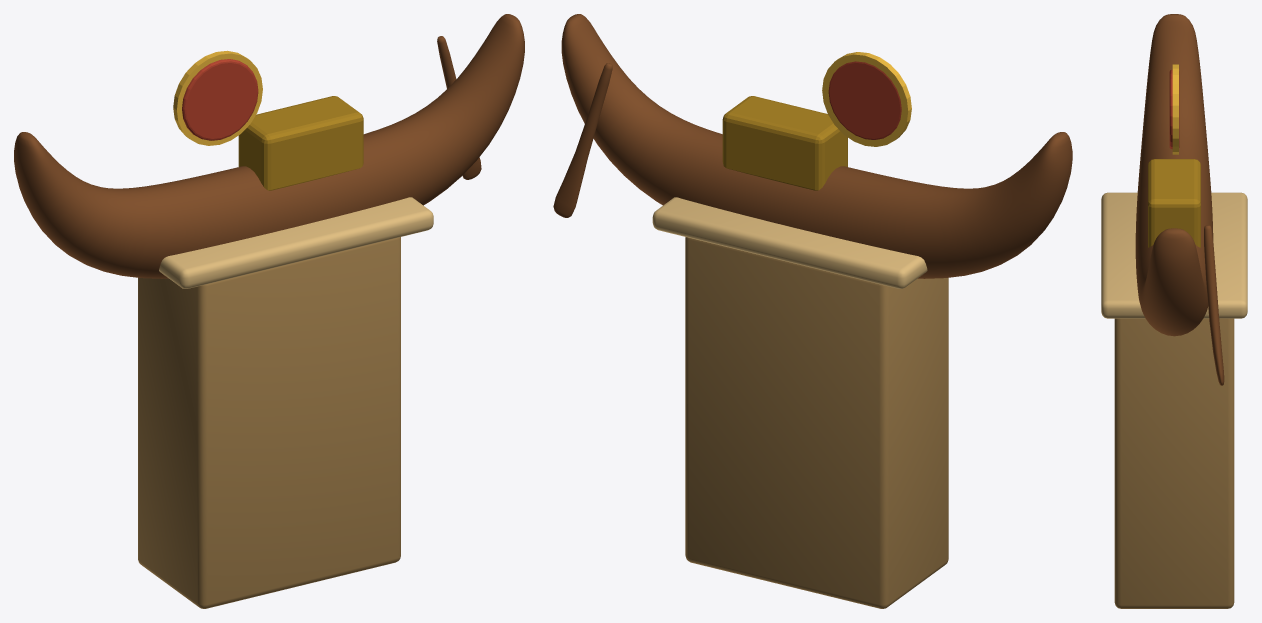
The model's file is barca.glb.
The picture shows the model from 3 angles, left to right: view 1: azimuth 30°, elevation 25°; view 2: azimuth 150°, elevation 25°; view 3: azimuth 270°, elevation 25°; orthographic projection. The views are drawn at different scales.
Visible parts, largest first — view 1: soporte, casco, repisa, cabina, sol, sol_borde, remo; view 2: soporte, casco, repisa, cabina, sol, remo, sol_borde; view 3: soporte, casco, repisa, cabina, remo, sol_borde, sol.
Part boxes in pixels (x1,y1,x2,y2): soporte: (138,237,400,608); casco: (14,14,524,278); repisa: (159,197,433,288); cabina: (238,96,363,190); sol: (182,59,258,140); sol_borde: (173,50,262,145); remo: (437,36,481,179); soporte: (685,237,948,608); casco: (561,14,1072,278); repisa: (652,197,927,288); cabina: (722,96,847,190); sol: (828,61,901,139); remo: (553,63,612,217); sol_borde: (822,52,911,146); soporte: (1114,318,1234,608); casco: (1135,14,1213,336); repisa: (1101,192,1247,318); cabina: (1148,159,1200,247); remo: (1204,225,1224,385); sol_borde: (1172,64,1178,154); sol: (1169,69,1179,149).
Size of the model in its own units: 0.7919 by 0.788 by 0.22.
